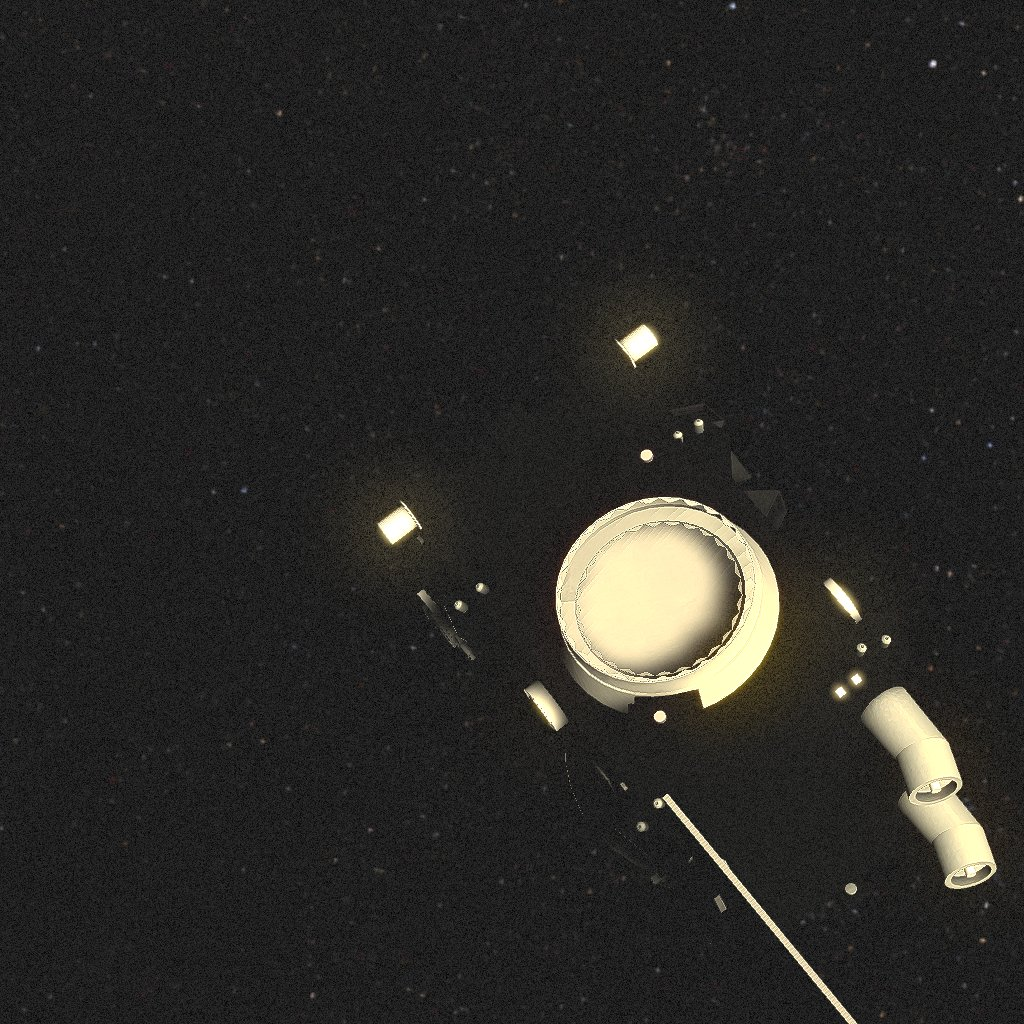proba_3_csc: (377, 324, 997, 1024)
